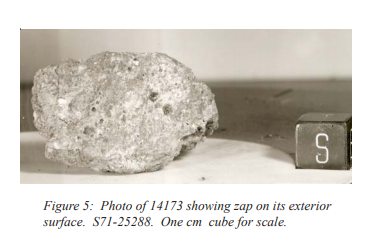Breccia: (24, 33, 235, 184)
